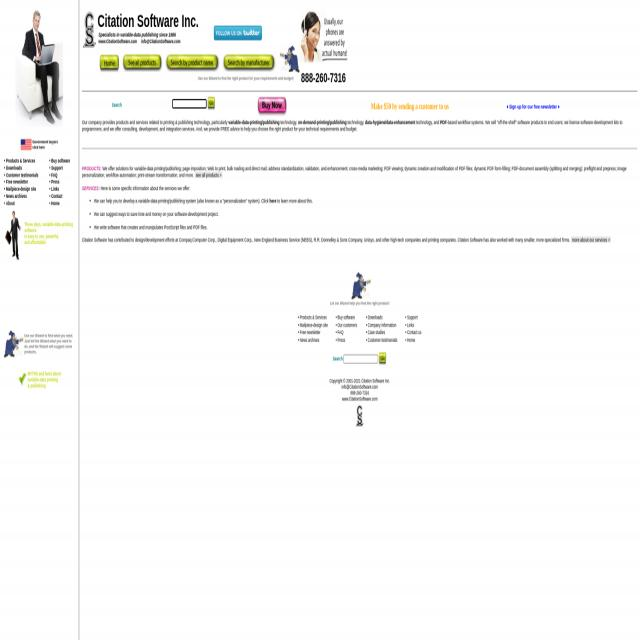button: (15, 3, 63, 127), (300, 10, 348, 63), (164, 53, 220, 73), (222, 53, 276, 73), (4, 210, 23, 262), (121, 53, 162, 73), (214, 26, 262, 41), (352, 272, 371, 300), (4, 330, 23, 358), (280, 46, 300, 72), (82, 12, 96, 48), (258, 97, 287, 113), (99, 54, 119, 72), (356, 402, 364, 430), (18, 372, 27, 388), (20, 140, 32, 150), (379, 351, 387, 366), (207, 96, 215, 110)
field: (344, 354, 378, 363), (172, 100, 206, 108)
